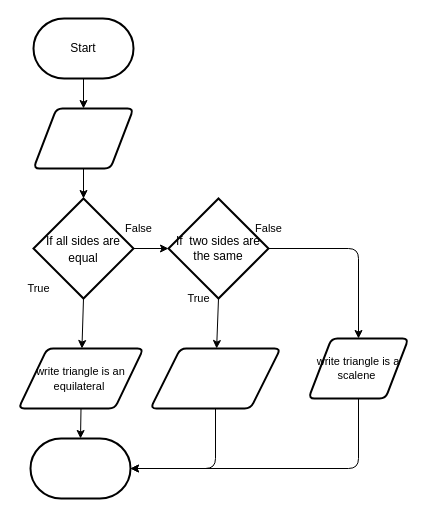
The diagram is 426 pixels wide and 516 high, and some of its shapes have lost their labels. Each missing label, with the box of its shape:
Enter side length: (32, 107, 134, 169)
Stop: (29, 437, 131, 499)
write triangle is an isosceles: (149, 347, 281, 409)
